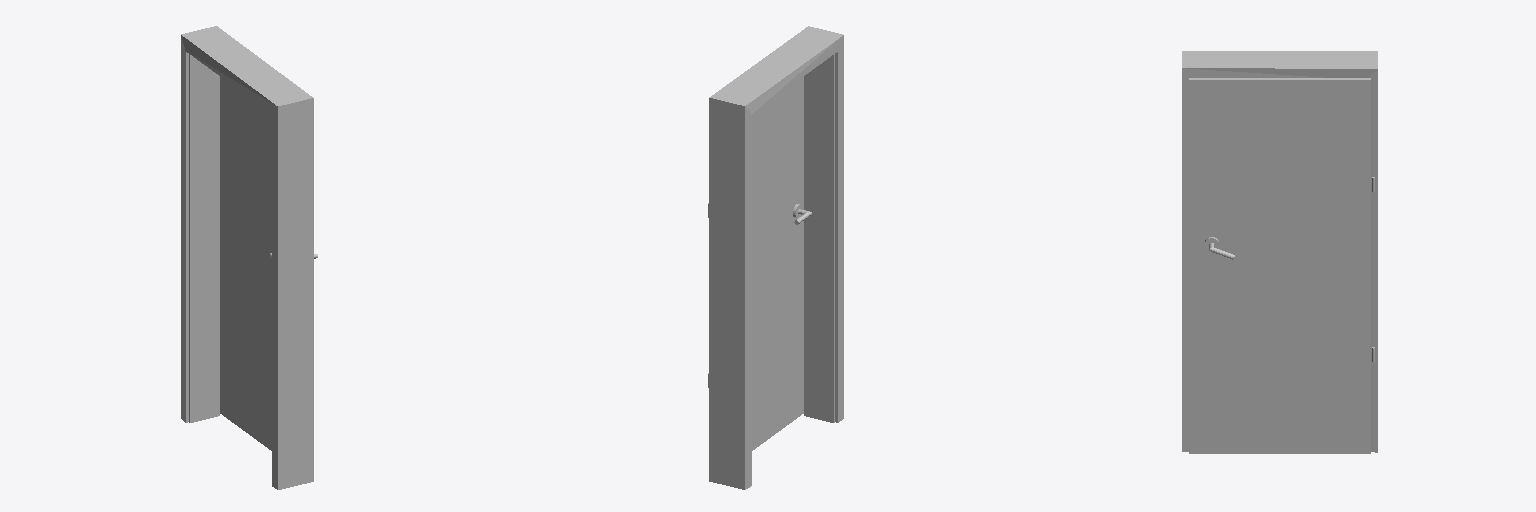
File: door47.obj
The picture shows the model from 3 angles: view 1: azimuth 30°, elevation 25°; view 2: azimuth 150°, elevation 25°; view 3: azimuth 270°, elevation 25°; orthographic projection.
Parts seen in each view (by area): view 1: Cylinder.005, Cylinder.001; view 2: Cylinder.005, Cylinder.001; view 3: Cylinder.001, Cylinder.005.
Boxes of the visible parts, x1,y1,x2,y2 form: Cylinder.005: [181, 26, 313, 489]; Cylinder.001: [220, 77, 271, 450]; Cylinder.005: [708, 26, 843, 489]; Cylinder.001: [708, 77, 803, 450]; Cylinder.001: [1189, 78, 1374, 453]; Cylinder.005: [1182, 51, 1377, 452].
Bounding box in the file's own units: 0.3039 × 2.05 × 0.95.